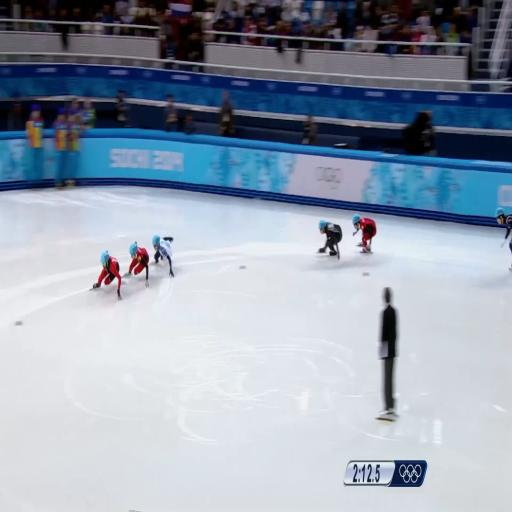Skater: (92, 252, 121, 300), (124, 242, 149, 287), (352, 214, 376, 253), (319, 220, 342, 258), (153, 236, 174, 277), (496, 208, 511, 246)
